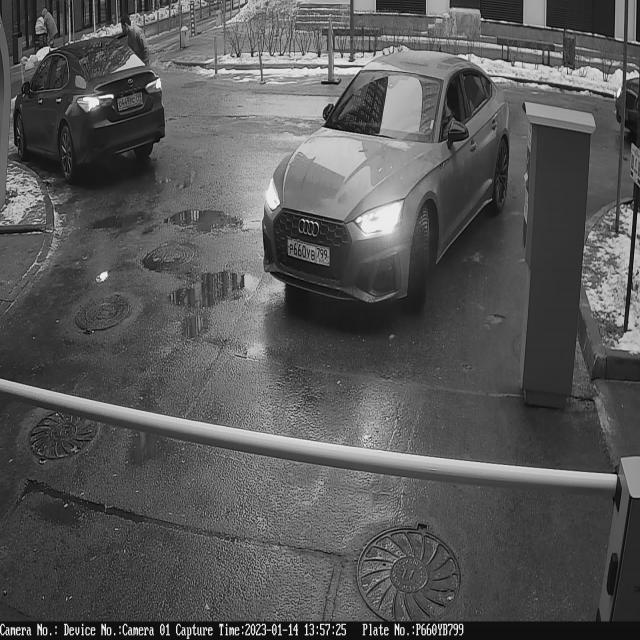car-plate-numbers: (286, 236, 332, 270)
